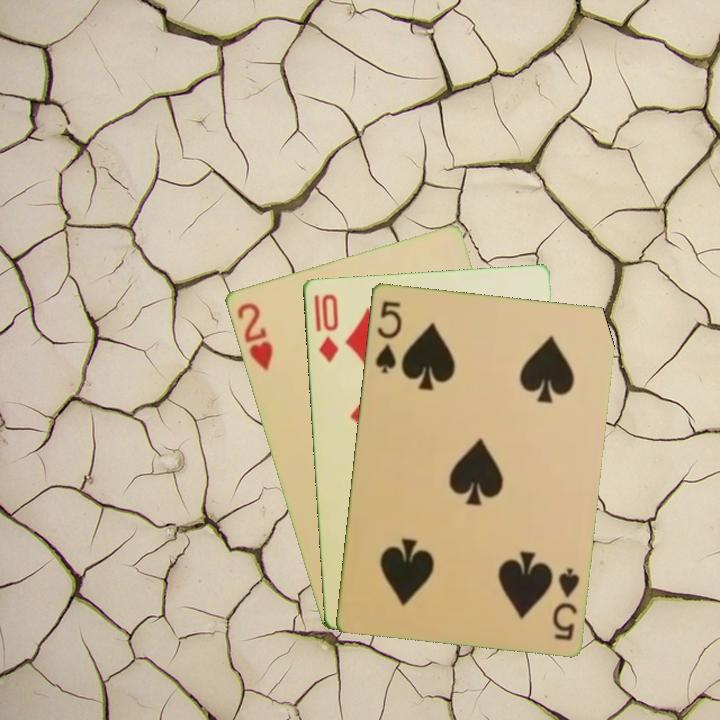10d: (310, 290, 341, 365)
2h: (233, 298, 275, 373)
5s: (548, 563, 582, 643), (371, 297, 405, 376)
